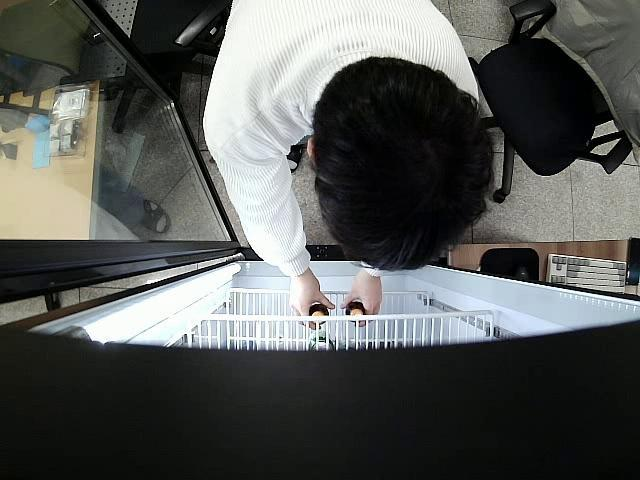17_vita500: (346, 299, 368, 326), (306, 302, 330, 324)
